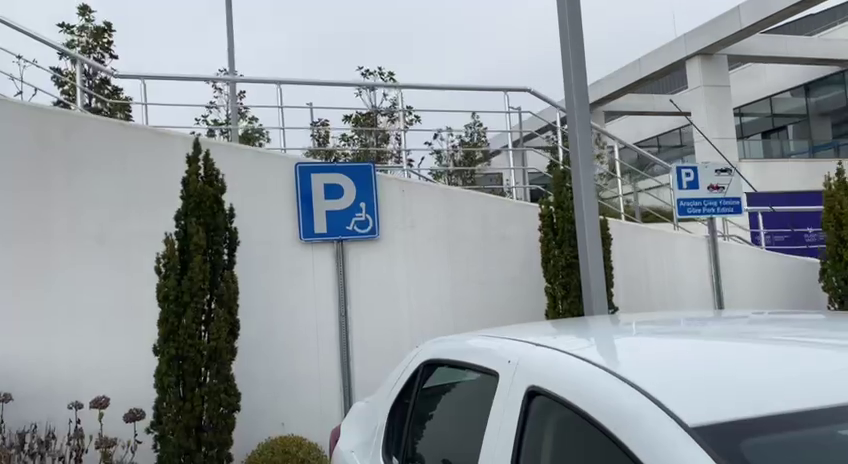parking: (295, 160, 381, 242), (675, 165, 700, 190)
